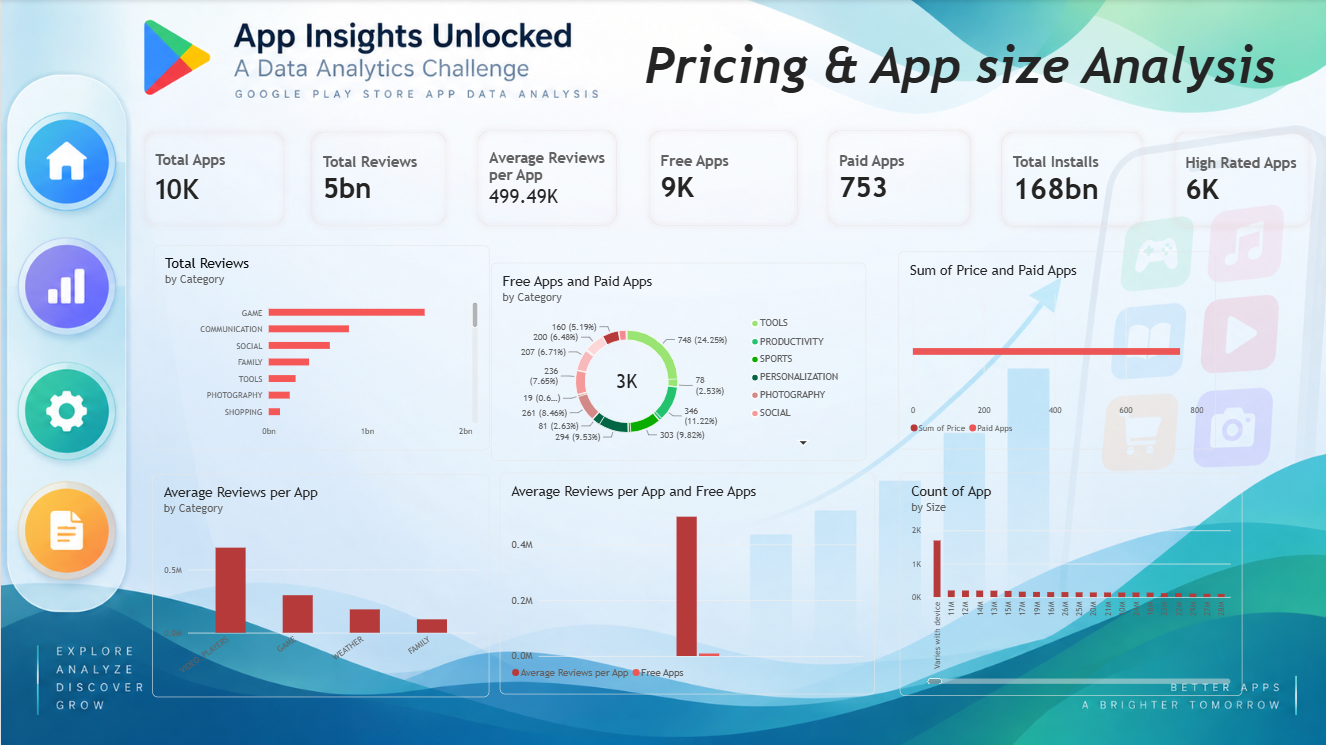

What the dashboard file says about the page in this screenshot:
{"tool":"powerbi","page":{"name":"Pricing & App size Analysis","canvas":[1920,1080],"ordinal":2},"visuals":[{"type":"actionButton","box":[18.5,152.3,154.4,160.5],"z":0},{"type":"actionButton","box":[18.5,339.6,154.4,156.4],"z":1000},{"type":"actionButton","box":[18.5,518.7,154.4,150.3],"z":2000},{"type":"actionButton","box":[18.5,701.9,154.4,133.8],"z":3000},{"type":"cardVisual","fields":{"Data":["Apps.Total Apps"]},"box":[195.5,181.1,226.4,158.5],"z":4000},{"type":"cardVisual","fields":{"Data":["Apps.Total Reviews"]},"box":[438.4,181.1,218.2,158.5],"z":5000},{"type":"cardVisual","fields":{"Data":["Apps.Average Reviews per App"]},"box":[679.2,179.1,224.4,160.5],"z":6000},{"type":"cardVisual","fields":{"Data":["Apps.Free Apps"]},"box":[926.2,179.1,238.8,160.5],"z":7000},{"type":"cardVisual","fields":{"Data":["Apps.Paid Apps"]},"box":[1185.6,179.1,230.5,160.5],"z":8000},{"type":"cardVisual","fields":{"Data":["Apps.Total Installs"]},"box":[1436.7,181.1,228.5,160.5],"z":9000},{"type":"cardVisual","fields":{"Data":["Apps.High Rated Apps"]},"box":[1685.8,181.1,220.2,160.5],"z":10000},{"type":"textbox","box":[884.9,54.3,1008,97.7],"z":11000},{"type":"barChart","fields":{"Y":["Apps.Average Price"],"Category":["DimCategory.Category"]},"box":[220.2,356.1,487.8,296.4],"z":12000},{"type":"donutChart","fields":{"Y":["Apps.Free Apps","Apps.Paid Apps"],"Category":["DimCategory.Category"]},"box":[709.4,381.8,543.4,286.1],"z":13000},{"type":"clusteredBarChart","fields":{"Y":["Sum(Apps.Price)","Apps.Paid Apps"]},"box":[1298.8,366.4,459,286.1],"z":14000},{"type":"columnChart","fields":{"Category":["DimCategory.Category"],"Y":["Apps.Average Reviews per App"]},"box":[219,687.7,487.8,323],"z":15000},{"type":"clusteredColumnChart","fields":{"Y":["Apps.Average Reviews per App","Apps.Free Apps"]},"box":[722.5,685.4,543.4,321.1],"z":16000},{"type":"columnChart","fields":{"Category":["Apps.Size"],"Y":["CountNonNull(Apps.App)"]},"box":[1300.9,685.4,496.1,323.2],"z":17000}]}

Visuals, with their boxes in screenshot pixels (x1, y1, x2, y2), scaled from the page's 1920x1080 canvas onto the 1326x745 screenshot:
actionButton: (left=13, top=105, right=119, bottom=216)
actionButton: (left=13, top=234, right=119, bottom=342)
actionButton: (left=13, top=358, right=119, bottom=461)
actionButton: (left=13, top=484, right=119, bottom=576)
cardVisual - Apps.Total Apps: (left=135, top=125, right=291, bottom=234)
cardVisual - Apps.Total Reviews: (left=303, top=125, right=453, bottom=234)
cardVisual - Apps.Average Reviews per App: (left=469, top=124, right=624, bottom=234)
cardVisual - Apps.Free Apps: (left=640, top=124, right=805, bottom=234)
cardVisual - Apps.Paid Apps: (left=819, top=124, right=978, bottom=234)
cardVisual - Apps.Total Installs: (left=992, top=125, right=1150, bottom=236)
cardVisual - Apps.High Rated Apps: (left=1164, top=125, right=1316, bottom=236)
textbox: (left=611, top=37, right=1307, bottom=105)
barChart - Apps.Average Price x DimCategory.Category: (left=152, top=246, right=489, bottom=450)
donutChart - Apps.Free Apps x Apps.Paid Apps: (left=490, top=263, right=865, bottom=461)
clusteredBarChart - Sum(Apps.Price) x Apps.Paid Apps: (left=897, top=253, right=1214, bottom=450)
columnChart - DimCategory.Category x Apps.Average Reviews per App: (left=151, top=474, right=488, bottom=697)
clusteredColumnChart - Apps.Average Reviews per App x Apps.Free Apps: (left=499, top=473, right=874, bottom=694)
columnChart - Apps.Size x CountNonNull(Apps.App): (left=898, top=473, right=1241, bottom=696)
